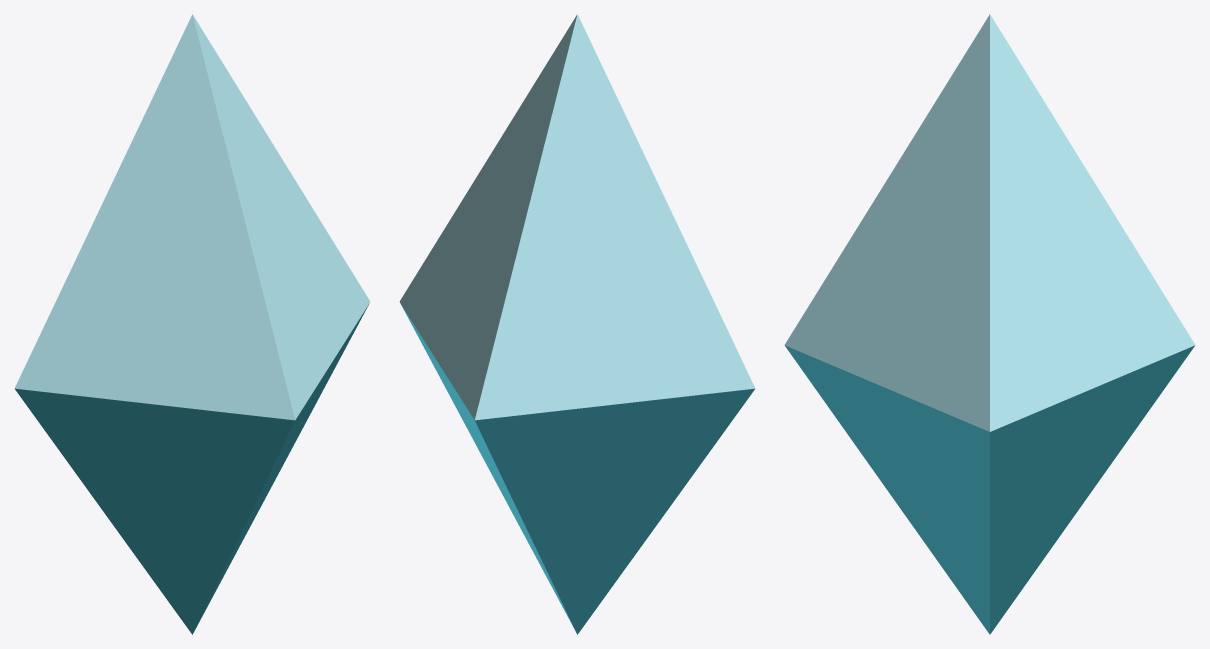
Rendered from xp_gem_placeholder.glb.
3 renders of one model, left to right at view 1: azimuth 30°, elevation 25°; view 2: azimuth 150°, elevation 25°; view 3: azimuth 270°, elevation 25°, orthographic.
Parts seen in each view (by area): view 1: xp_gem_placeholder; view 2: xp_gem_placeholder; view 3: xp_gem_placeholder.
Part boxes in pixels (x1,y1,x2,y2): xp_gem_placeholder: (14,14,370,634); xp_gem_placeholder: (399,14,755,634); xp_gem_placeholder: (784,14,1195,634).
Bounding box in the file's own units: 0.18 × 0.3 × 0.18.
1 material, 1 textured.
